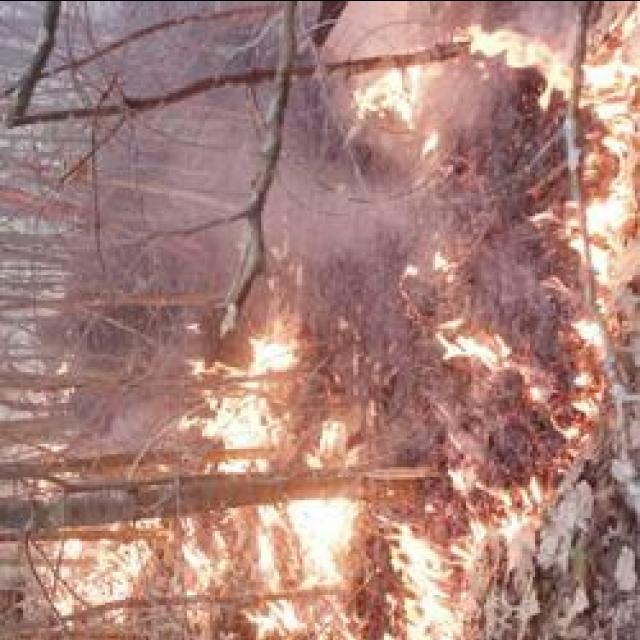fire: (560, 88, 640, 260), (196, 338, 304, 460), (455, 31, 640, 98), (288, 498, 358, 576)
smoke: (258, 173, 490, 255), (302, 0, 474, 72)
